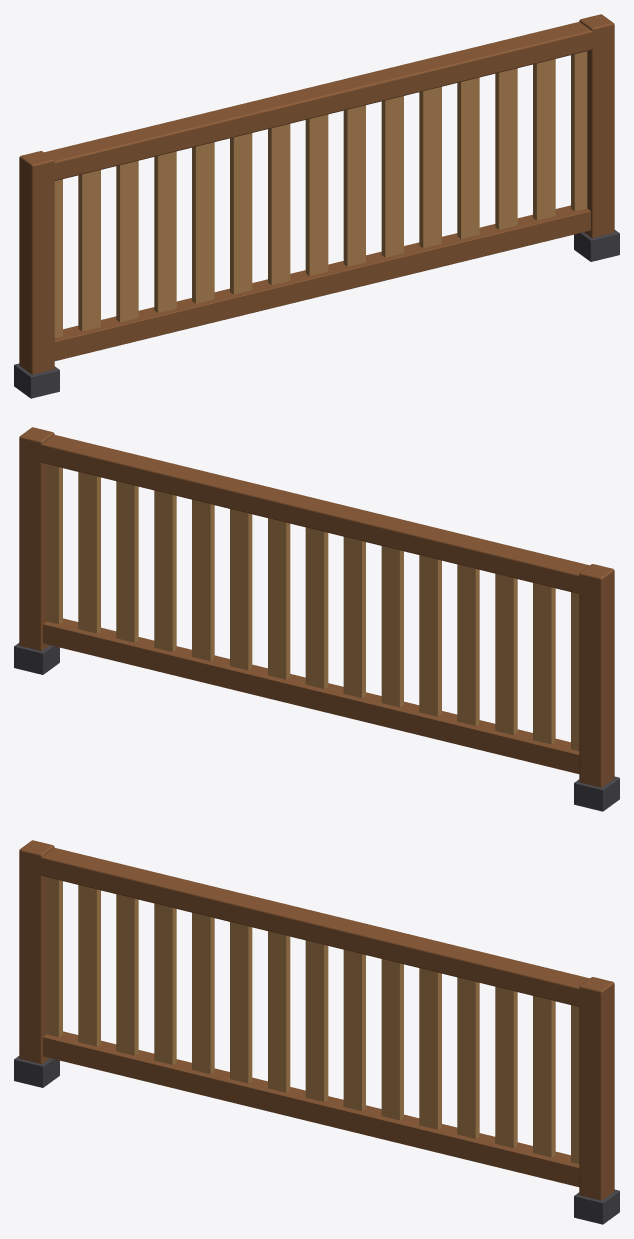
File: cabin-balustrade.glb
3 renders of one model, top to bottom at view 1: azimuth 30°, elevation 25°; view 2: azimuth 150°, elevation 25°; view 3: azimuth 330°, elevation 25°, orthographic.
Visible parts, largest first — view 1: rail.top, rail.bottom, post.left, post.right, baluster.8, baluster.6, baluster.7, baluster.5, baluster.10, baluster.9, baluster.11, baluster.13 (+9 smaller); view 2: rail.top, rail.bottom, post.left, post.right, baluster.8, baluster.6, baluster.7, baluster.5, baluster.10, baluster.9, baluster.11, baluster.13 (+9 smaller); view 3: rail.top, rail.bottom, post.right, post.left, baluster.8, baluster.9, baluster.10, baluster.6, baluster.11, baluster.2, baluster.3, baluster.5 (+9 smaller).
Part boxes in pixels (x1=…): rail.top: x1=44, y1=21, x2=596, y2=180; rail.bottom: x1=54, y1=205, x2=590, y2=360; post.left: x1=19, y1=151, x2=54, y2=374; post.right: x1=579, y1=14, x2=614, y2=237; baluster.8: x1=305, y1=114, x2=328, y2=275; baluster.6: x1=230, y1=133, x2=252, y2=294; baluster.7: x1=268, y1=124, x2=290, y2=285; baluster.5: x1=192, y1=142, x2=214, y2=303; baluster.10: x1=381, y1=96, x2=403, y2=257; baluster.9: x1=343, y1=105, x2=365, y2=266; baluster.11: x1=419, y1=86, x2=441, y2=248; baluster.13: x1=495, y1=68, x2=517, y2=229; rail.top: x1=37, y1=434, x2=589, y2=593; rail.bottom: x1=43, y1=618, x2=579, y2=773; post.left: x1=579, y1=564, x2=614, y2=787; post.right: x1=19, y1=427, x2=54, y2=650; baluster.8: x1=305, y1=527, x2=328, y2=688; baluster.6: x1=381, y1=546, x2=403, y2=707; baluster.7: x1=343, y1=537, x2=365, y2=698; baluster.5: x1=419, y1=555, x2=441, y2=716; baluster.10: x1=230, y1=509, x2=252, y2=670; baluster.9: x1=268, y1=518, x2=290, y2=679; baluster.11: x1=192, y1=499, x2=214, y2=661; baluster.13: x1=116, y1=481, x2=138, y2=642; rail.top: x1=37, y1=847, x2=589, y2=1006; rail.bottom: x1=43, y1=1031, x2=579, y2=1186; post.right: x1=579, y1=977, x2=614, y2=1200; post.left: x1=19, y1=840, x2=54, y2=1063; baluster.8: x1=305, y1=940, x2=328, y2=1101; baluster.9: x1=343, y1=950, x2=365, y2=1111; baluster.10: x1=381, y1=959, x2=403, y2=1120; baluster.6: x1=230, y1=922, x2=252, y2=1083; baluster.11: x1=419, y1=968, x2=441, y2=1129; baluster.2: x1=78, y1=885, x2=100, y2=1046; baluster.3: x1=116, y1=894, x2=138, y2=1055; baluster.5: x1=192, y1=912, x2=214, y2=1074.
Bounding box in the file's own units: 2.8 × 1.05 × 0.14.
